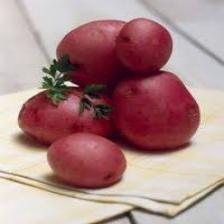Defected potato: (111, 70, 202, 154), (49, 19, 159, 84), (17, 86, 116, 148), (44, 132, 126, 189), (114, 16, 173, 73)
